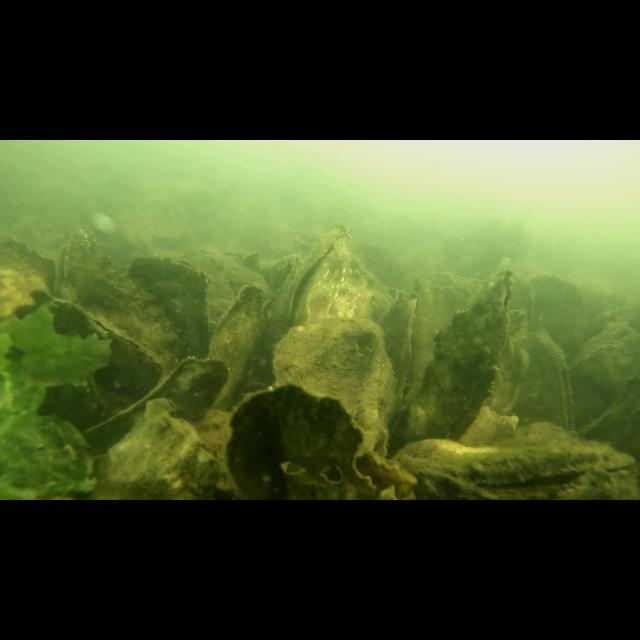Oyster-Closed: (222, 384, 376, 500), (274, 316, 390, 459), (388, 438, 634, 500), (82, 356, 228, 454), (91, 398, 221, 500), (49, 296, 163, 396), (88, 254, 186, 358), (129, 254, 211, 362), (564, 335, 640, 429), (211, 284, 265, 404), (518, 328, 578, 434), (50, 225, 100, 308), (266, 252, 302, 314)
Oyster-Open: (401, 268, 512, 440), (270, 224, 354, 358)
